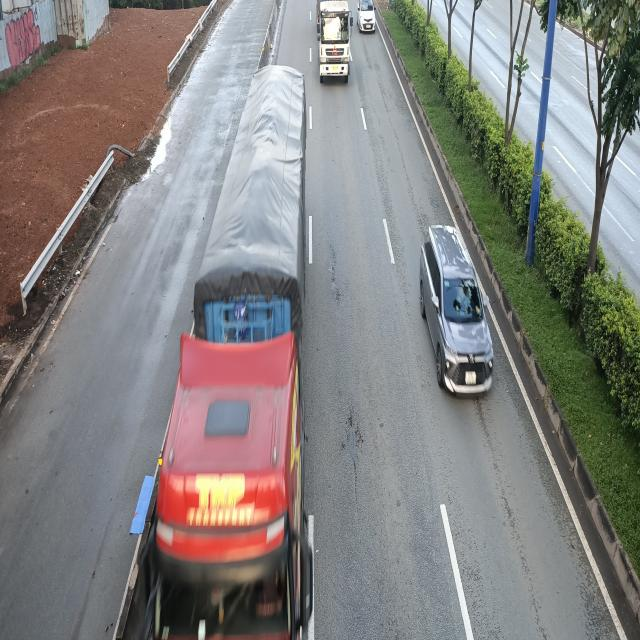car: (422, 222, 496, 395), (356, 1, 376, 34)
container: (134, 64, 318, 639), (315, 0, 354, 82)
